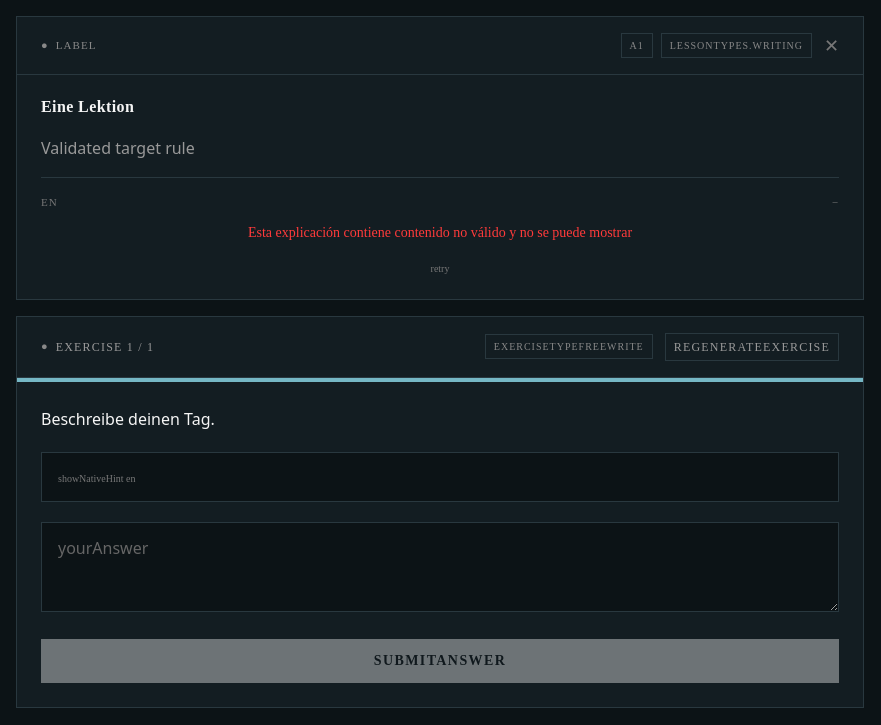
Test case: LessonPage lesson loading and answer flow › uses the displayed validated target text for selection and recovers invalid native content
This screenshot has width=881, height=725.
Click the button "retry".
click(440, 269)  # box [430,262,449,276]
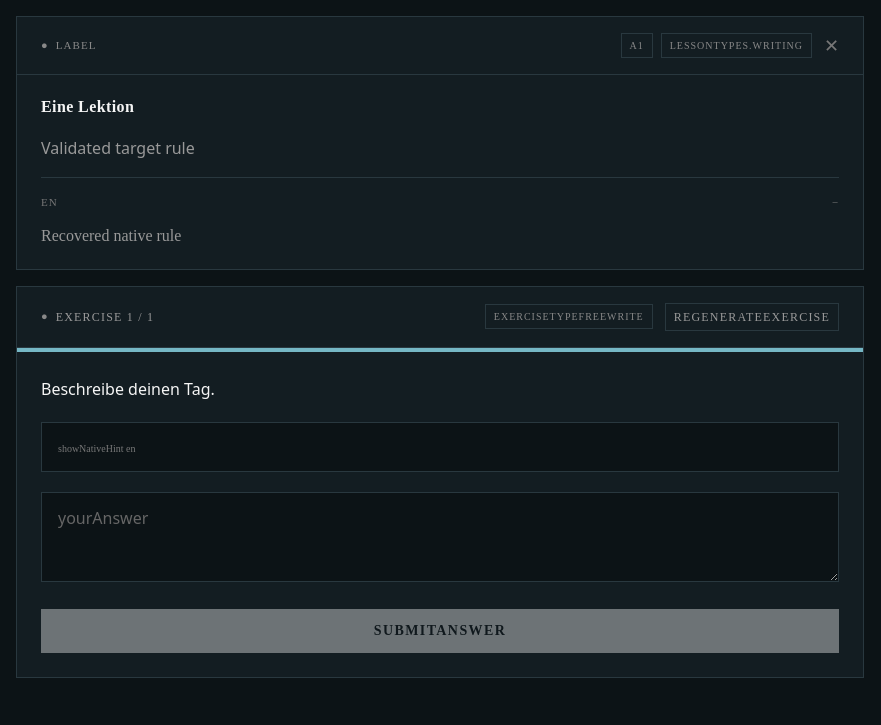
expect the text "Recovered native rule" is shown: met, box [41,226,181,244]
expect the message "Esta explicación contiene contenido no válido y no se puede mostrar" is gone: met
